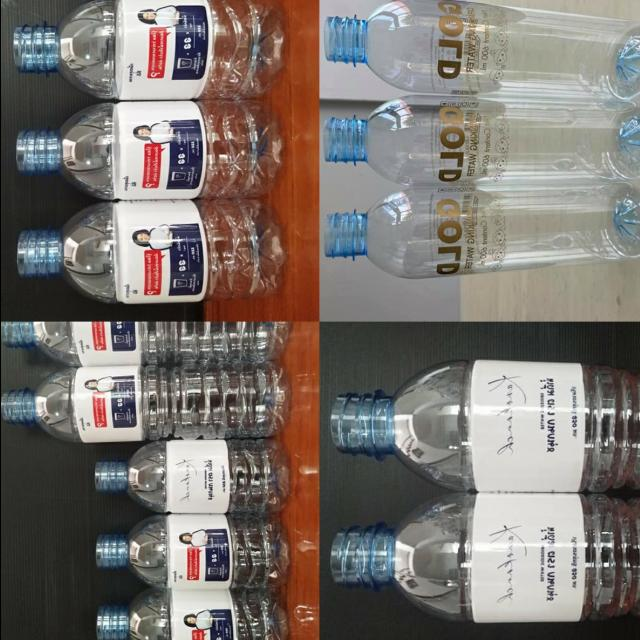plastik: (331, 361, 640, 492), (329, 494, 640, 622), (324, 0, 640, 100), (324, 183, 640, 278), (322, 96, 640, 185), (16, 199, 285, 304), (12, 0, 283, 99), (15, 102, 282, 199), (0, 362, 289, 442), (93, 439, 288, 513), (94, 515, 289, 587), (0, 322, 289, 366), (96, 589, 287, 640)
